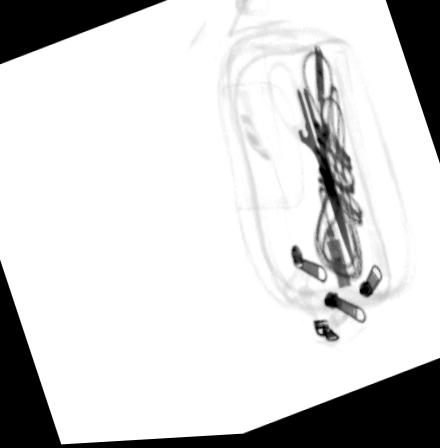Scissors: (264, 47, 353, 273)
